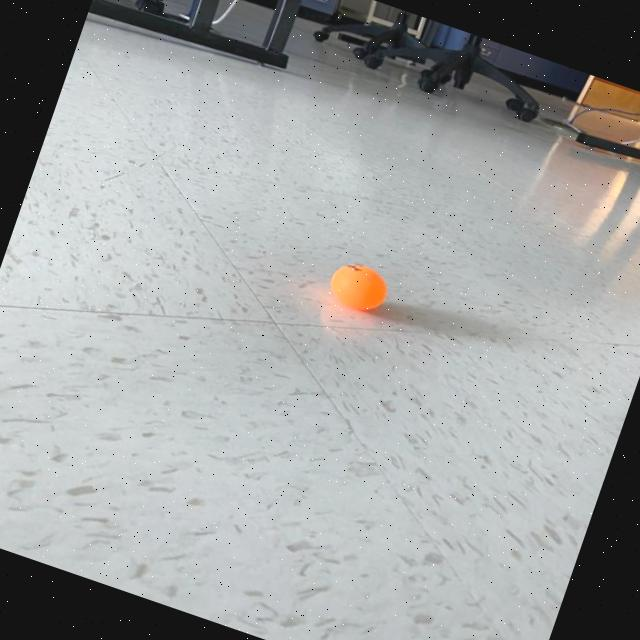ping-pong-ball: (320, 253, 402, 320)
